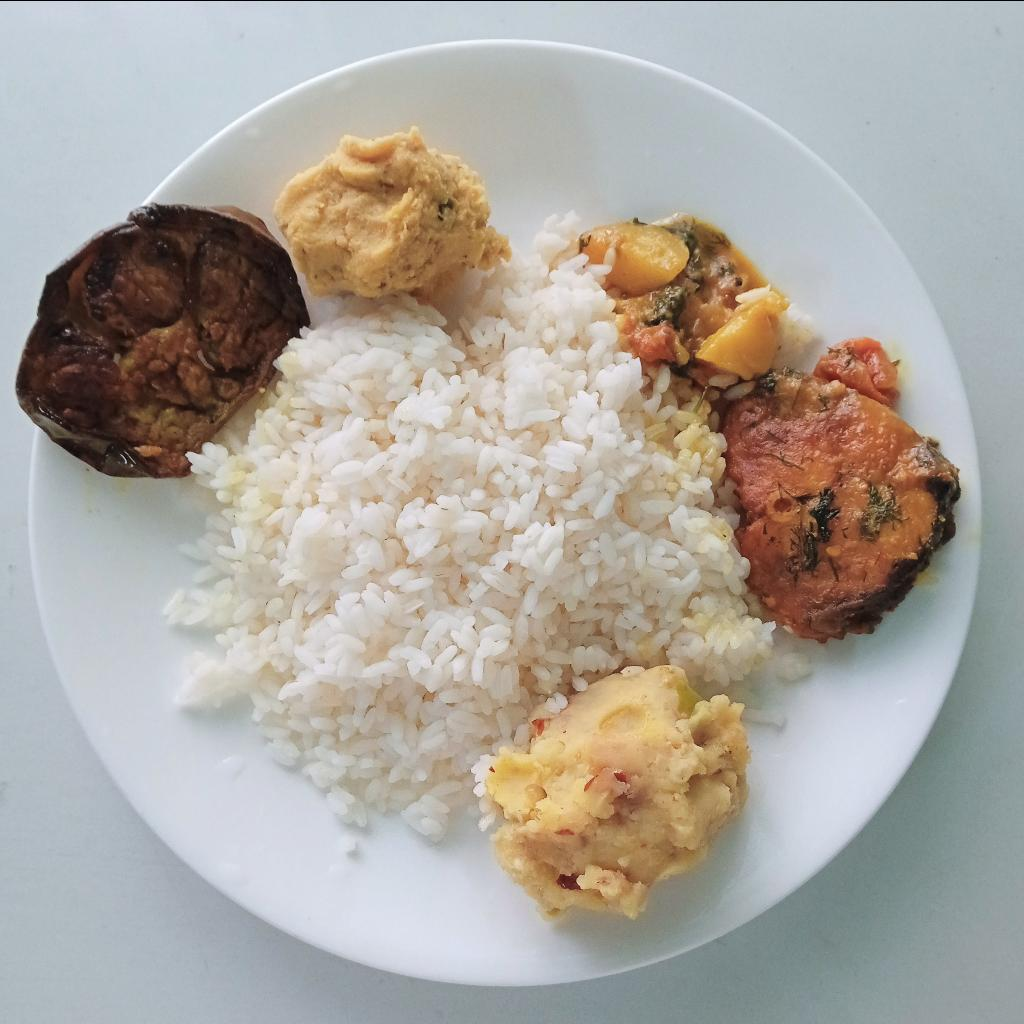begun-vaji: (11, 201, 311, 478)
daal: (274, 127, 511, 296)
fish: (727, 373, 961, 647)
potato-mashed: (488, 667, 752, 922)
rice: (161, 213, 805, 853)
vegetable: (578, 221, 787, 384)
